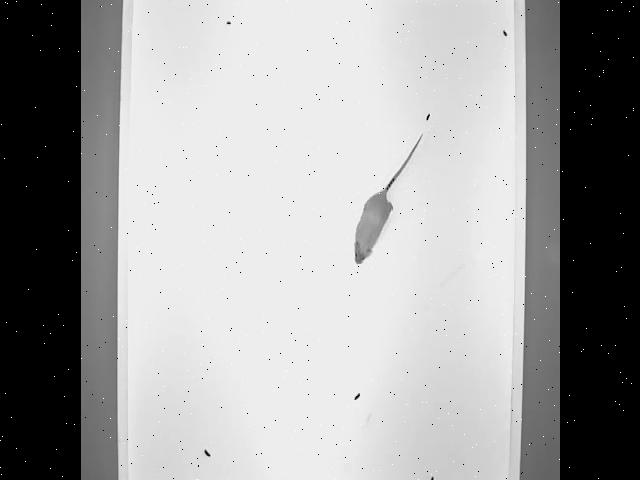Tikus: (349, 129, 426, 267)
